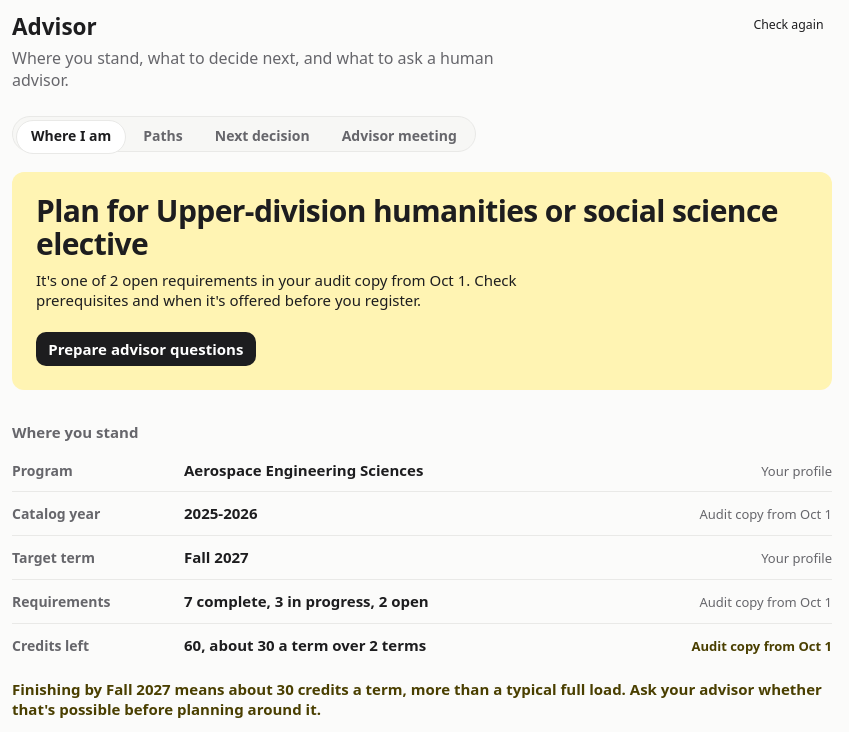
Test case: AdvisorView › warns when the target term needs more than a full load
The width and height of the screenshot is (849, 732).
Expected: the text "about 30 credits a term, more than a typical full load" is shown, [12, 679, 832, 720]
Click the tab "Paths". click: (163,137)
box: [128, 120, 198, 154]
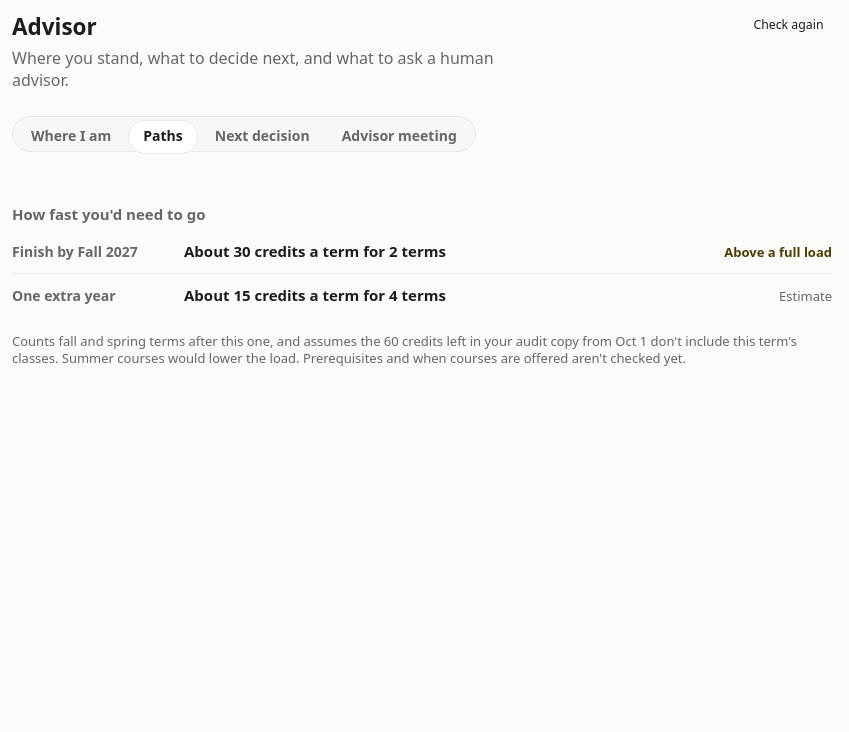
Expected: the text "Above a full load" is shown, [724, 244, 832, 261]
